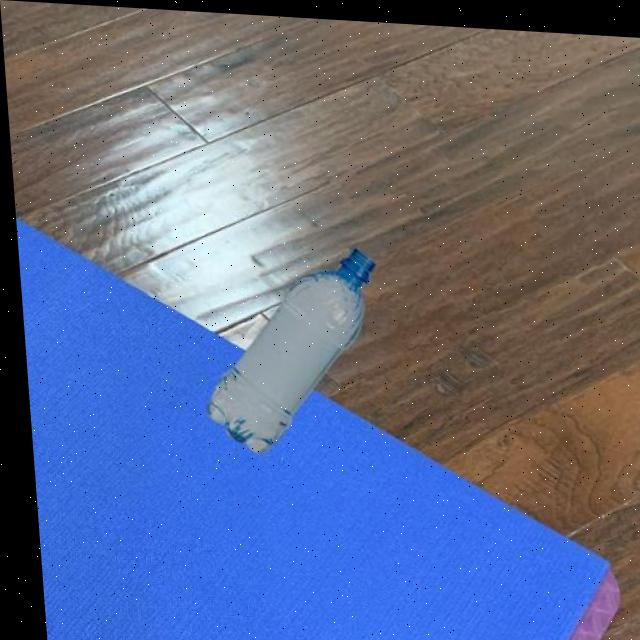bottle: (190, 233, 383, 457)
